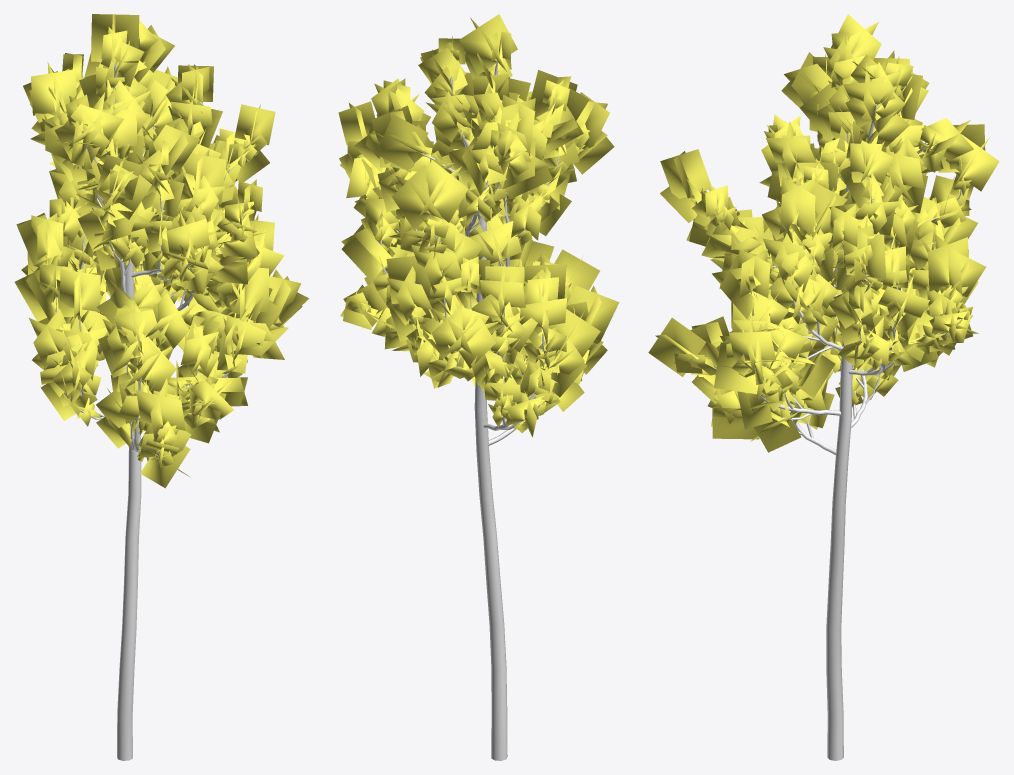
File: aspen_medium_v1_lod0.glb
The picture shows the model from 3 angles, left to right: view 1: azimuth 30°, elevation 25°; view 2: azimuth 150°, elevation 25°; view 3: azimuth 270°, elevation 25°; orthographic projection.
Parts seen in each view (by area): view 1: Leaves, Branches; view 2: Leaves, Branches; view 3: Leaves, Branches.
Boxes of the visible parts, x1=… form: Leaves: x1=14, y1=14, x2=308, y2=488; Branches: x1=55, y1=62, x2=246, y2=760; Leaves: x1=338, y1=14, x2=619, y2=437; Branches: x1=375, y1=61, x2=576, y2=760; Leaves: x1=648, y1=14, x2=999, y2=452; Branches: x1=712, y1=104, x2=962, y2=760.
Size of the model in its own units: 24.69 by 71.09 by 30.56.
